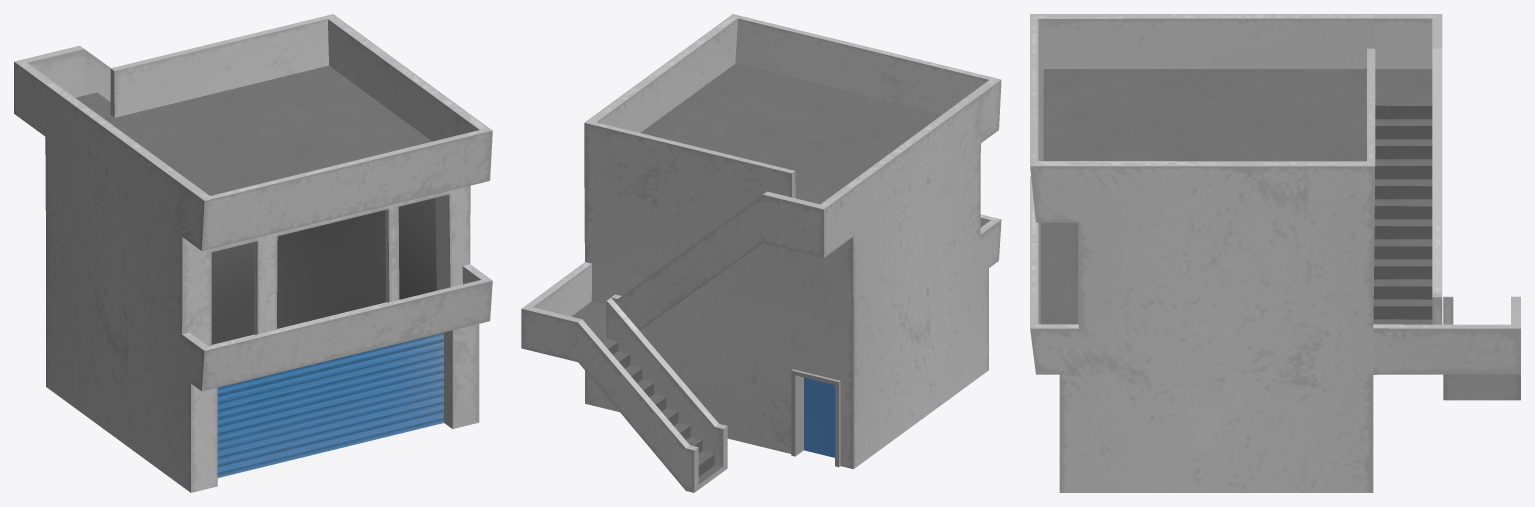
The model's file is SM_Building_01.fbx.
3 views of the same model, side by side, from view 1: azimuth 30°, elevation 25°; view 2: azimuth 150°, elevation 25°; view 3: azimuth 270°, elevation 25° (orthographic). The views are drawn at different scales.
Visible parts, largest first — view 1: SM_Building_01; view 2: SM_Building_01; view 3: SM_Building_01.
Boxes of the visible parts, bbox=[...] form: SM_Building_01: bbox=[14, 14, 492, 492]; SM_Building_01: bbox=[521, 14, 1001, 492]; SM_Building_01: bbox=[1030, 14, 1520, 492].
Size of the model in its own units: 823 by 826 by 1121.
